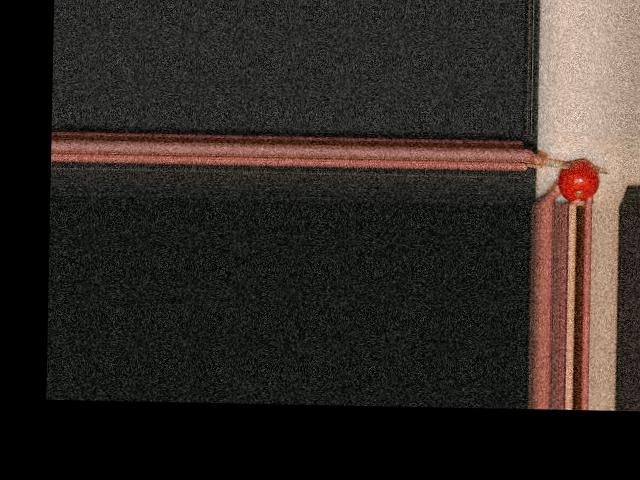tomato: (558, 159, 600, 201)
